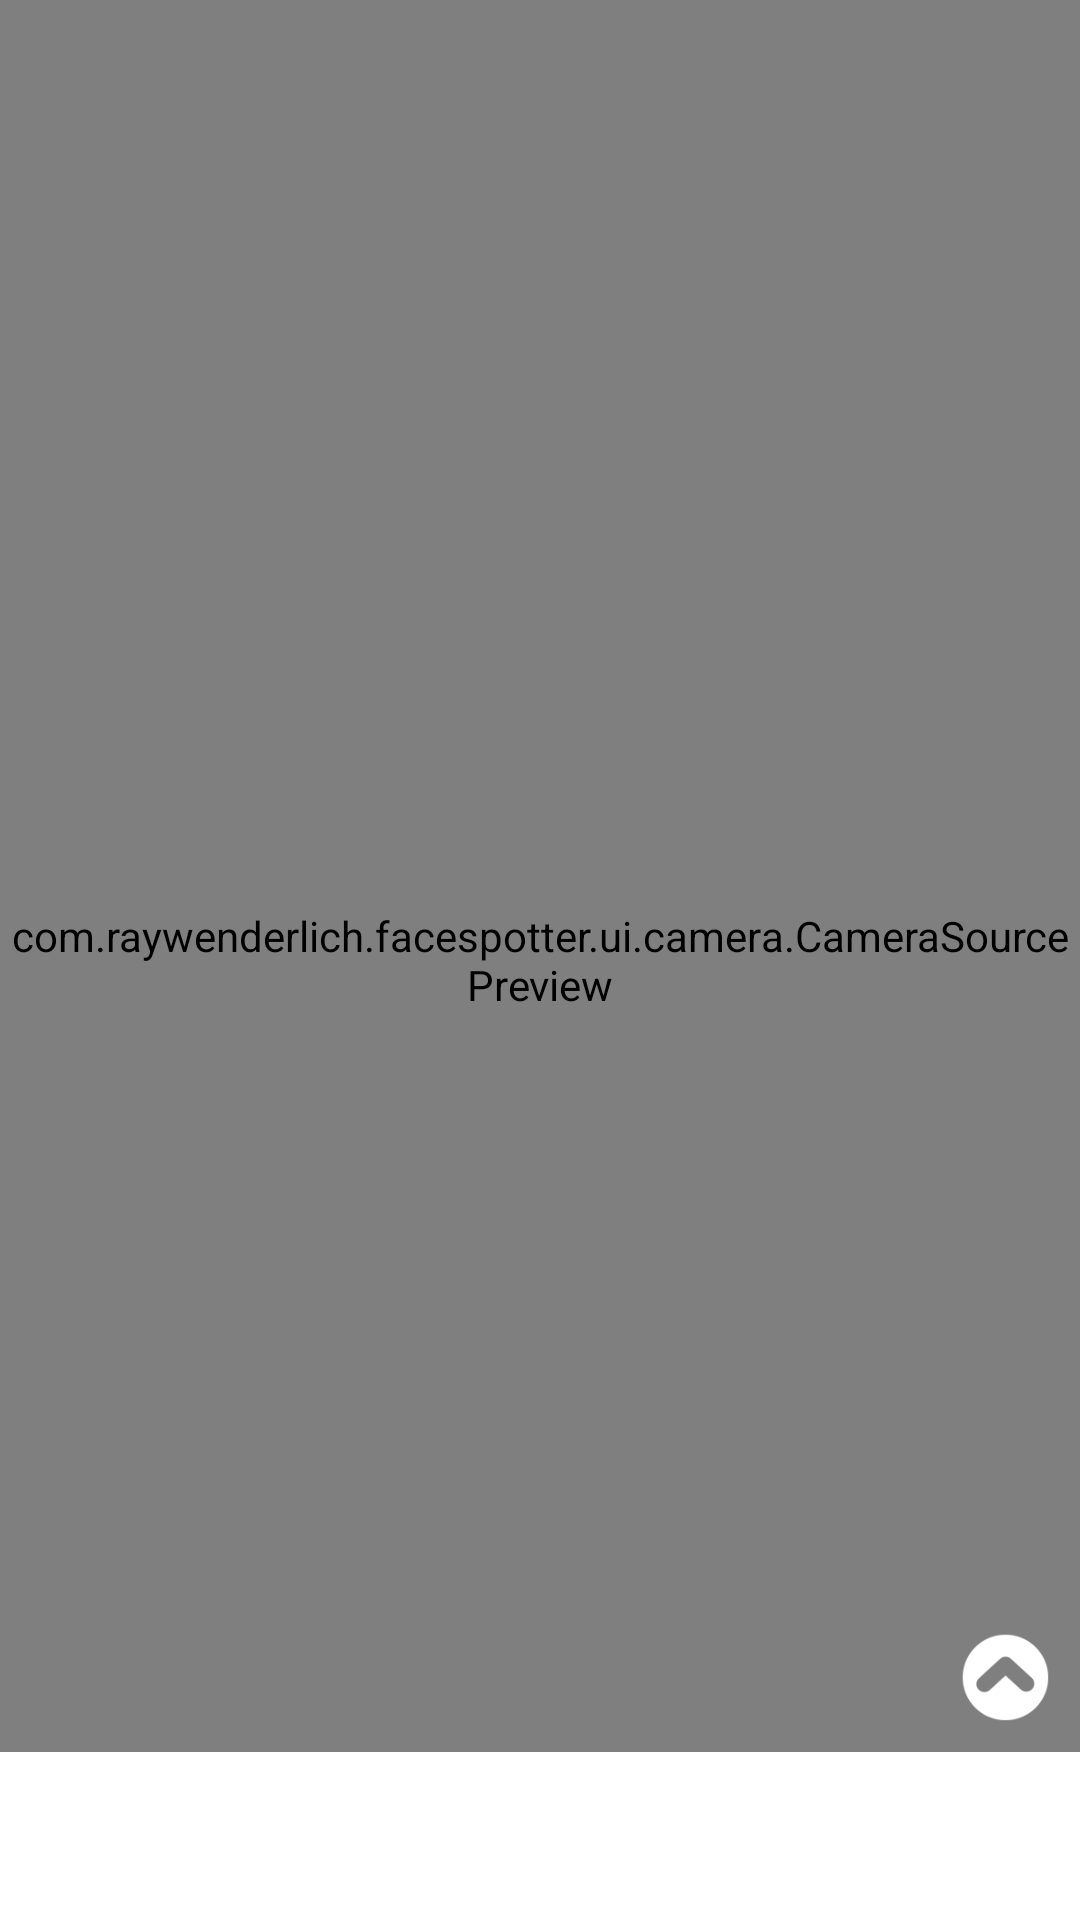

Screen size 1080 x 1920. Icon name, then its box in pixels as (x1, y1, x2, y2):
upicon: (962, 1634, 1048, 1720)
